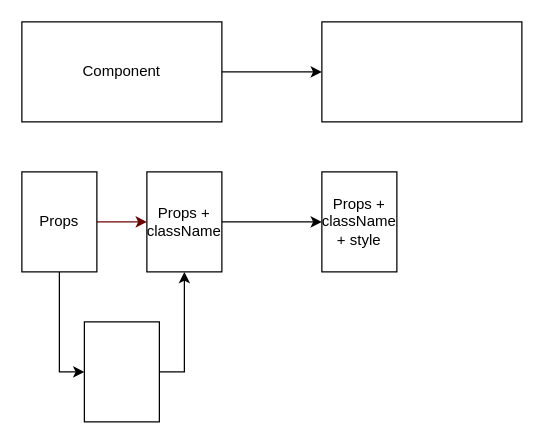
This 544x444 diagram has some shape labels left out. The centre of each missing label's shape, as x and y in pixels:
Implementation: the point at 421,71
Resize-logic: the point at 121,371
